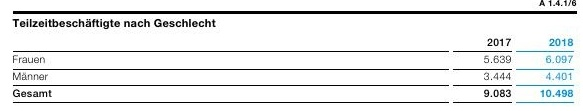table: (0, 0, 583, 111)
